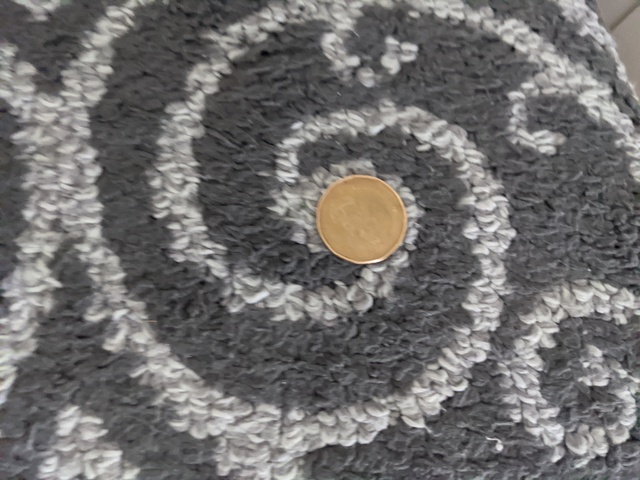loonie: (297, 169, 428, 273)
